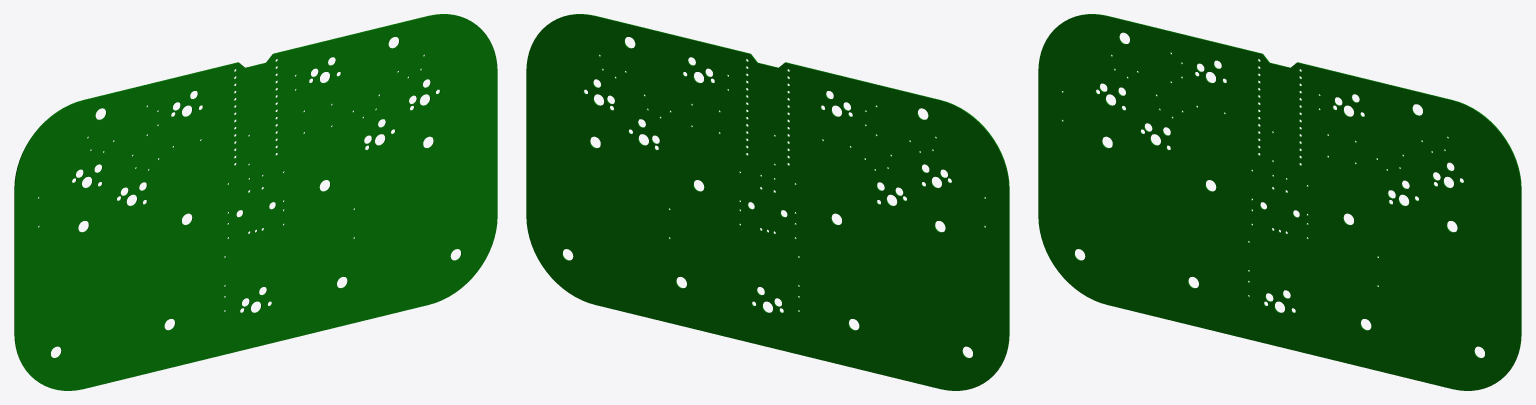
File: board-model-no-components.obj
3 views of the same model, side by side, from view 1: azimuth 30°, elevation 25°; view 2: azimuth 150°, elevation 25°; view 3: azimuth 330°, elevation 25° (orthographic).
Visible parts, largest first — view 1: Body1; view 2: Body1; view 3: Body1.
Part boxes in pixels (x1,y1,x2,y2): Body1: (14, 14, 497, 390); Body1: (526, 14, 1009, 390); Body1: (1038, 14, 1521, 390).
Bounding box in the file's own units: 7 × 4 × 0.0162.
